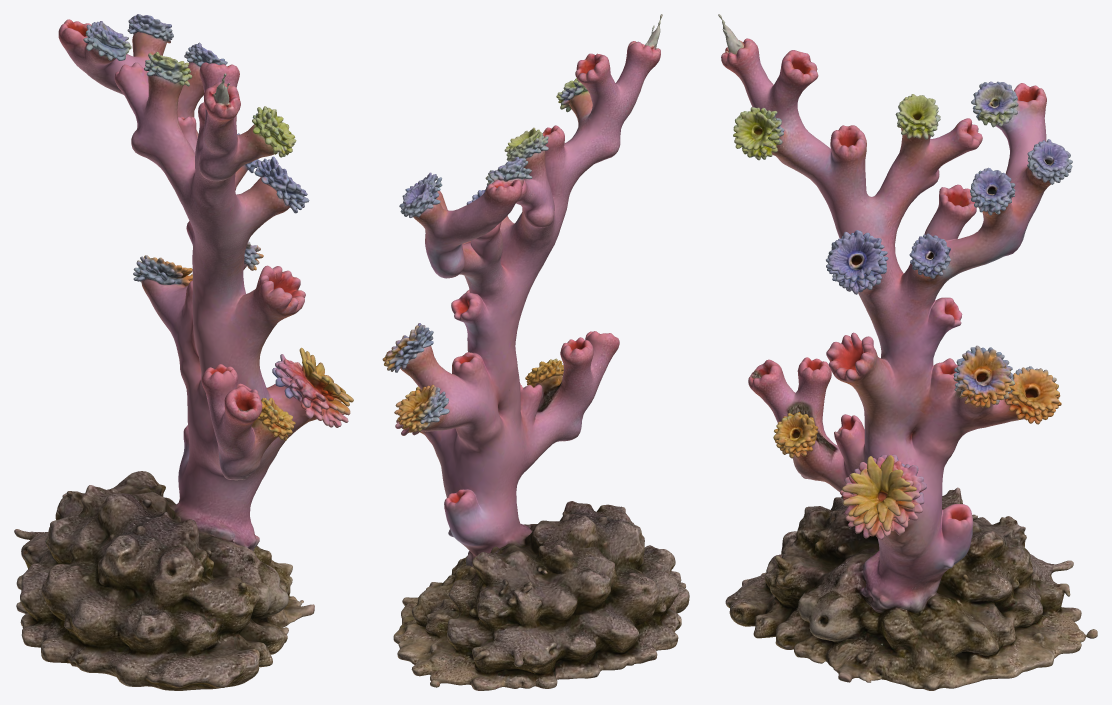
3 renders of one model, left to right at view 1: azimuth 30°, elevation 25°; view 2: azimuth 150°, elevation 25°; view 3: azimuth 270°, elevation 25°, orthographic. The views are drawn at different scales.
Bounding box in the file's own units: 0.512 × 0.9998 × 0.5769.
1 material, 1 textured.
